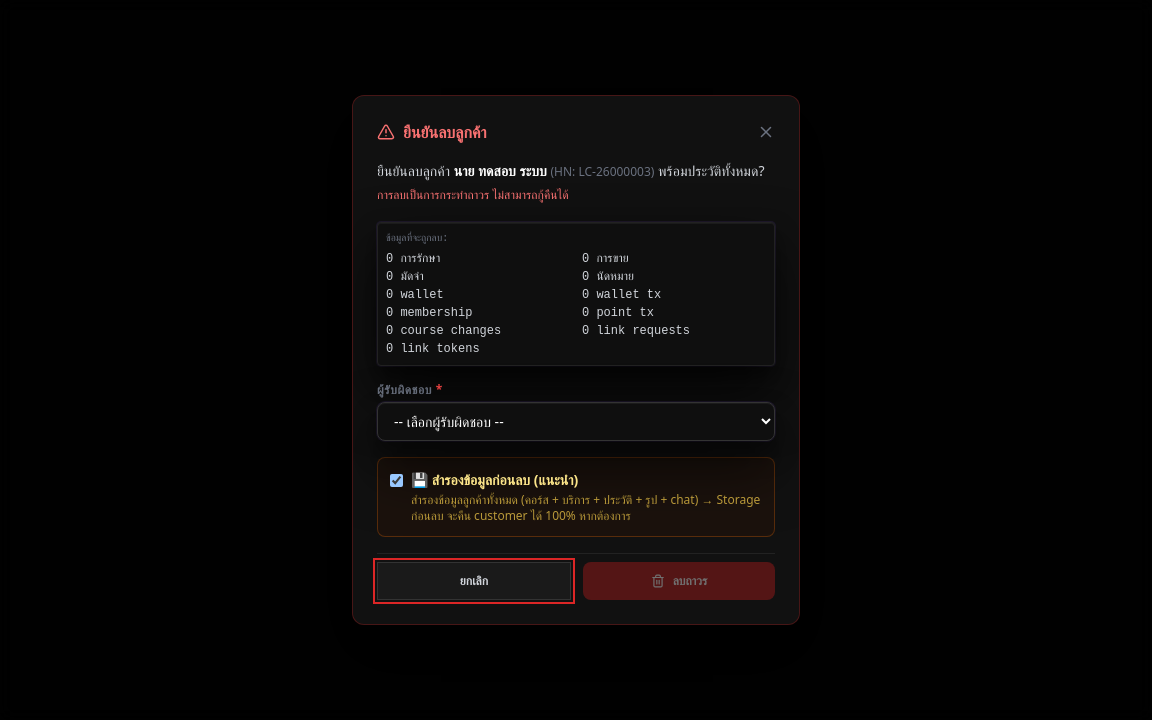
Test: Phase 24.0 / M4 — submit flow › M4.2 server error surfaces in red banner
Click the checkbox with test id "v74-auto-backup-checkbox": (396, 480) [390,474,403,487]
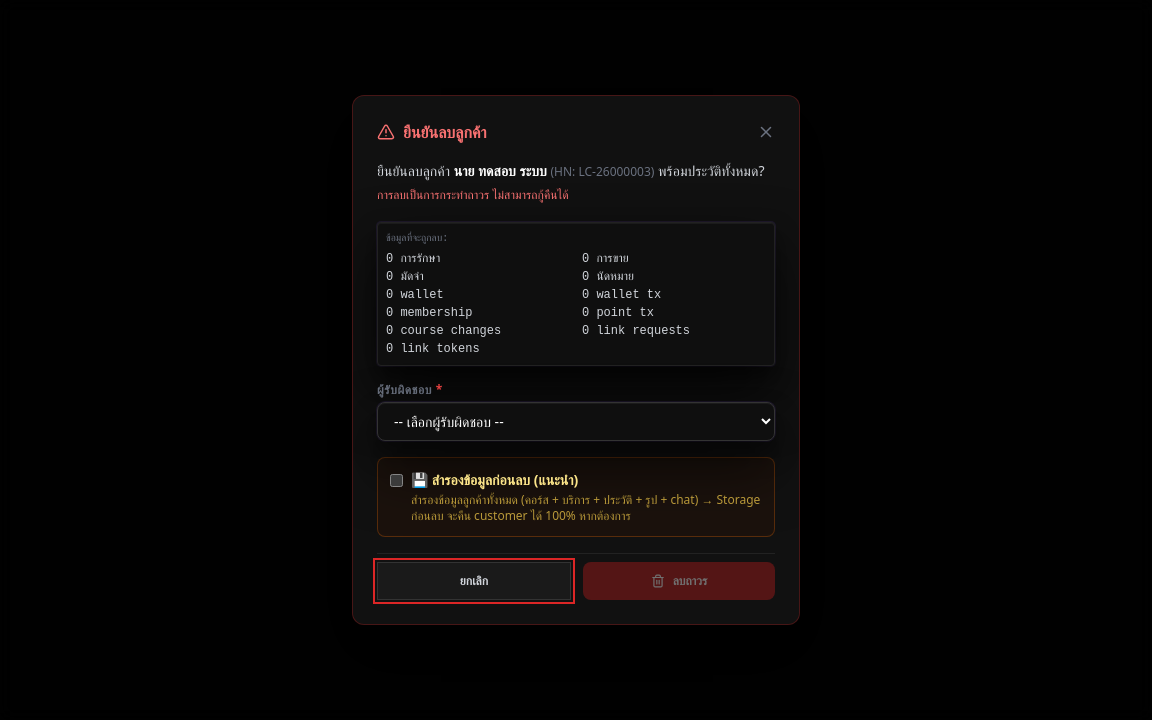
Select "พนง A" in the dropdown with test id "delete-customer-authorizer-select": (576, 421) [377,402,775,441]
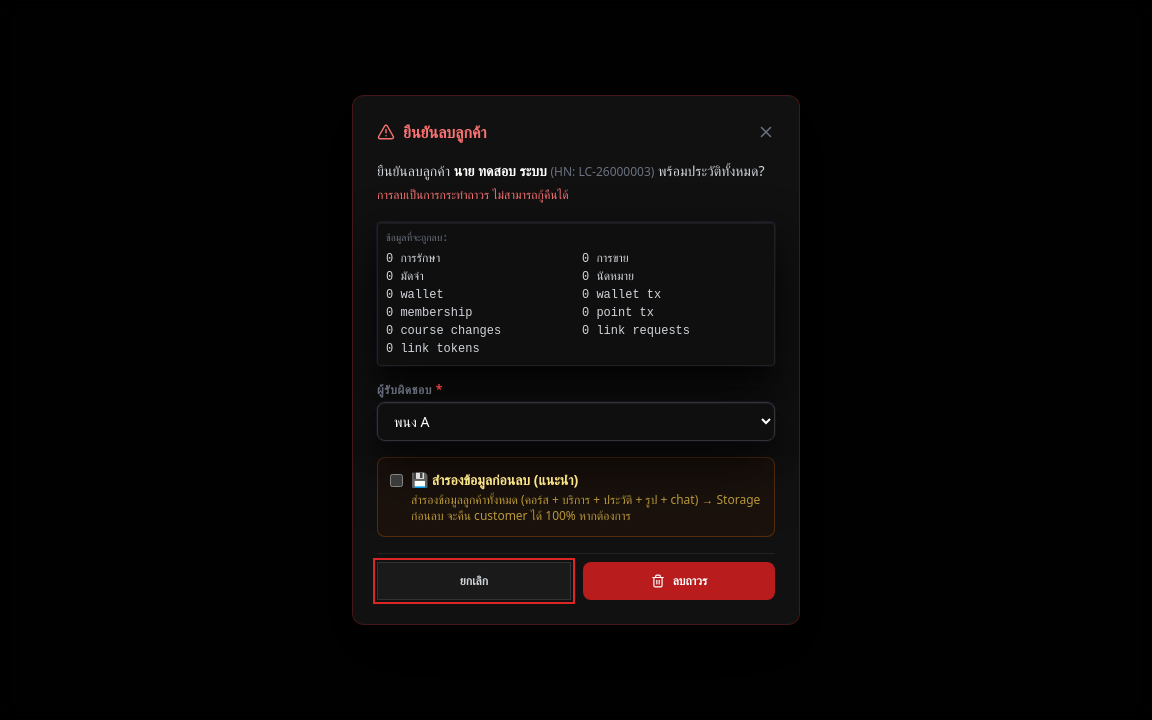
Click the button with test id "delete-customer-confirm": (679, 581) [583,562,775,600]
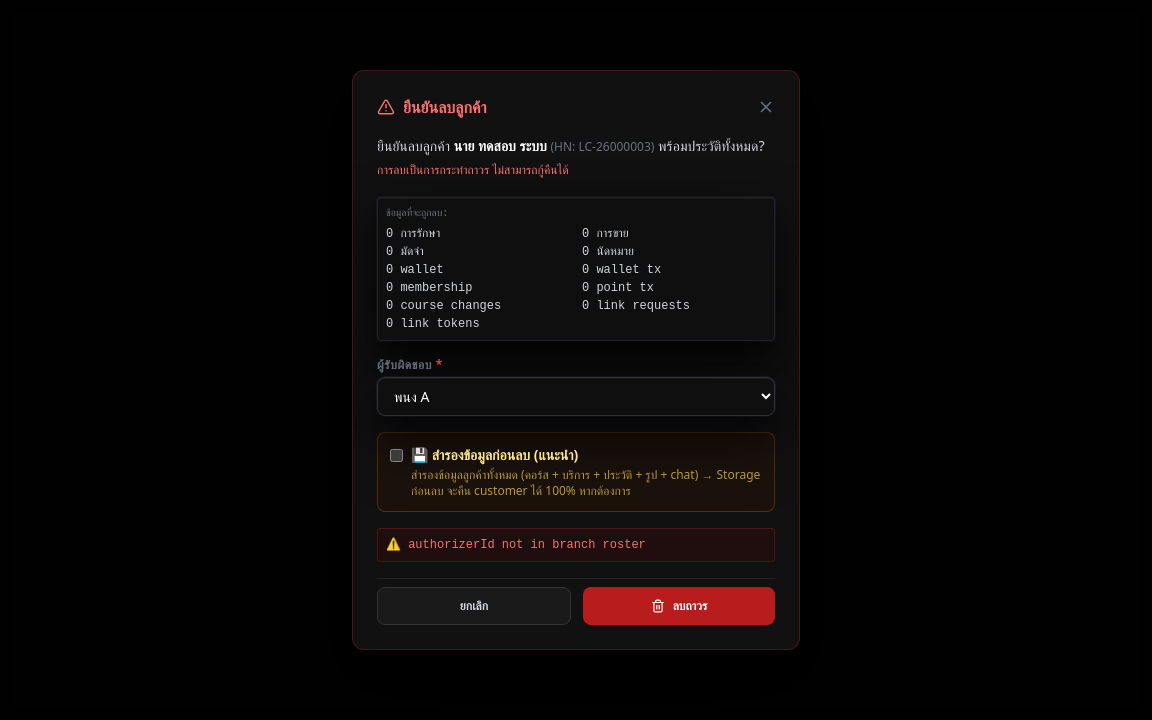
Expected: the text "⚠️ authorizerId not in branch roster" is shown, [377,528,775,562]
